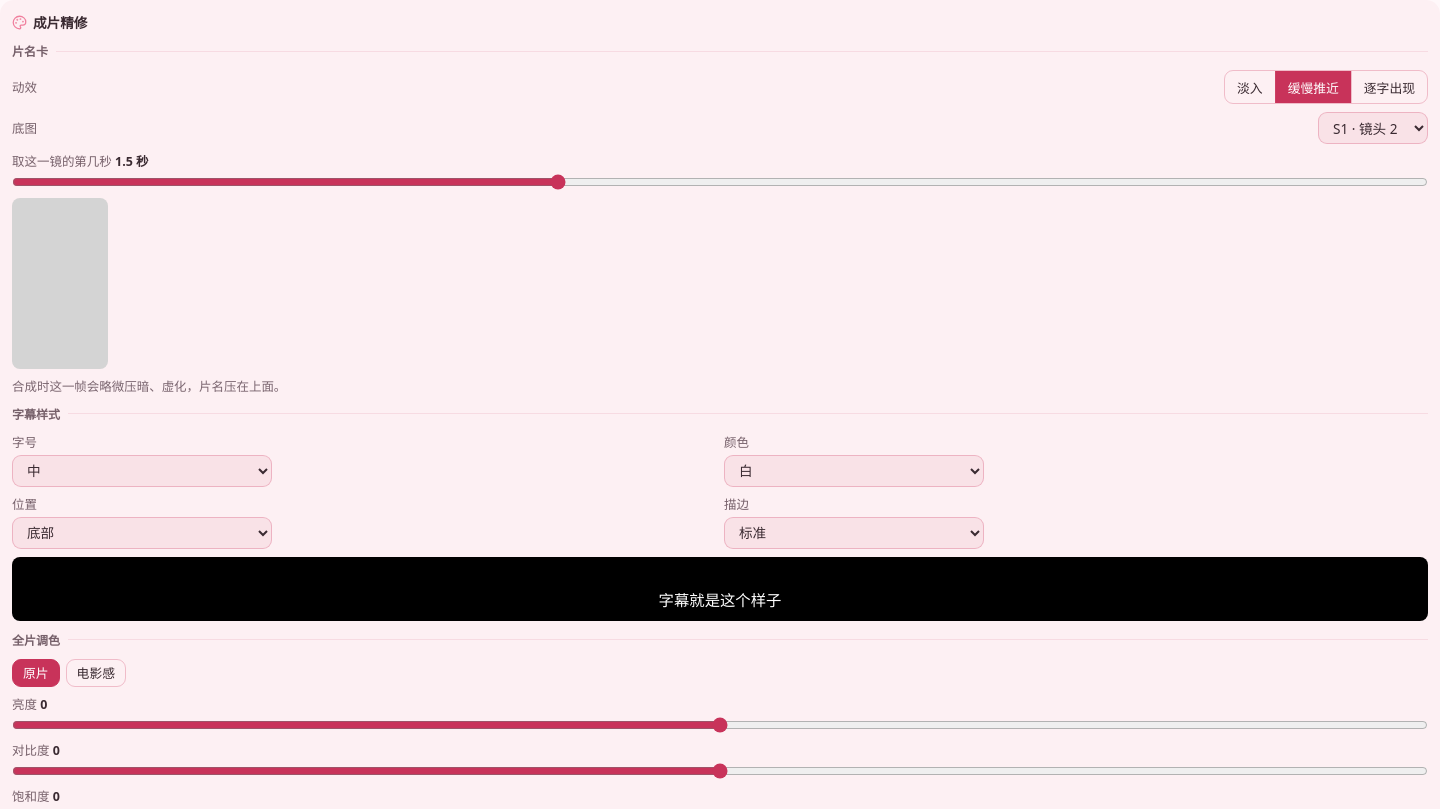
Test: FilmFinishing › shows the picked frame, lets the moment be moved by keyboard, and goes back to the plain card
Later steps or results of the test are not shown.
Set the slider labelled "取这一镜的第几秒 1.5 秒" to "2.4" at (882, 182), box top-left (12, 174), bottom-right (1428, 190)
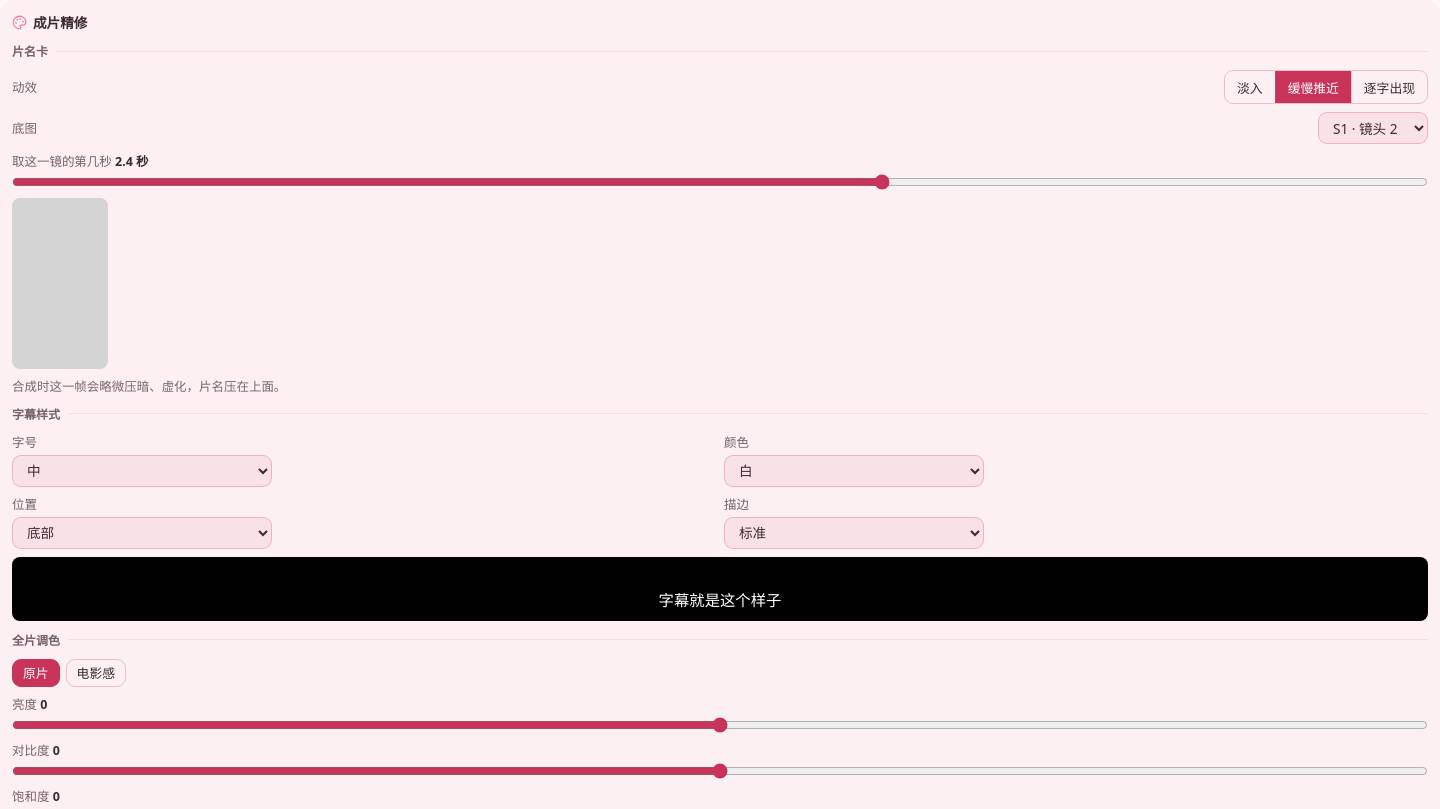
Expected: the text "2.4 秒" is shown, top-left (115, 153), bottom-right (148, 170)
